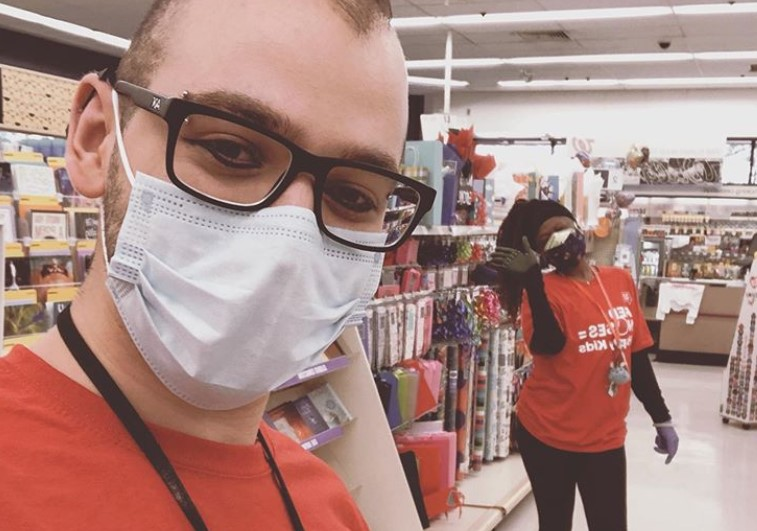face_with_mask: (68, 4, 439, 416), (522, 199, 585, 269)
